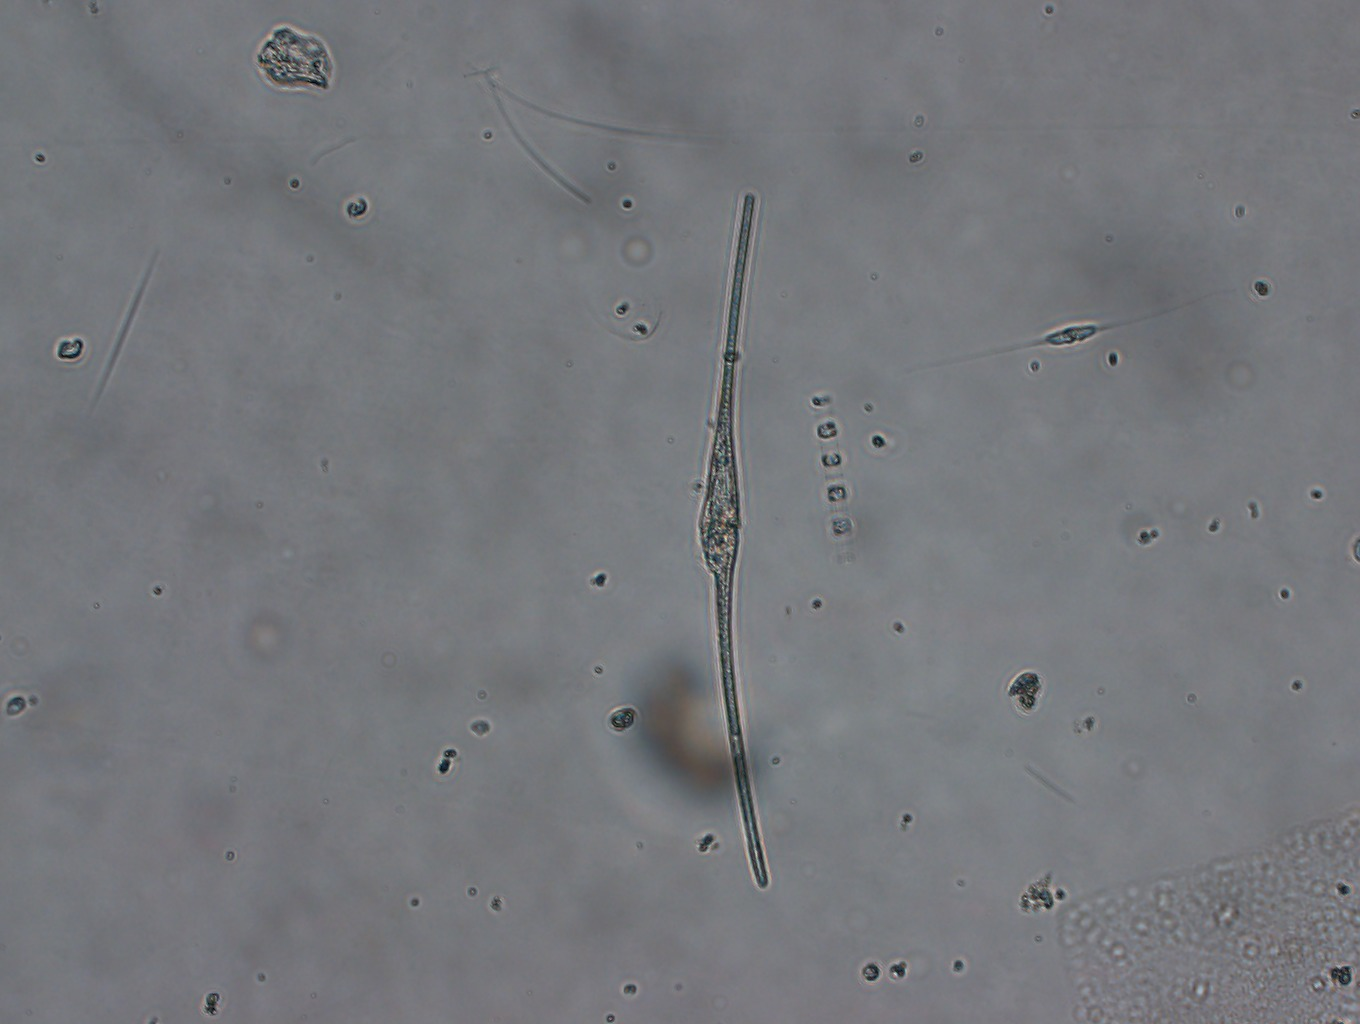ceratium fusus: (697, 191, 773, 886)
skeletonema: (805, 392, 857, 564)
